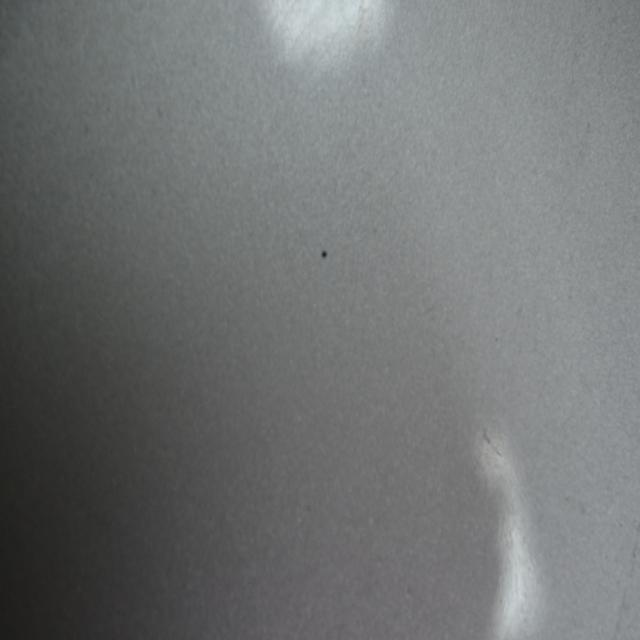dirt: (316, 242, 332, 264)
